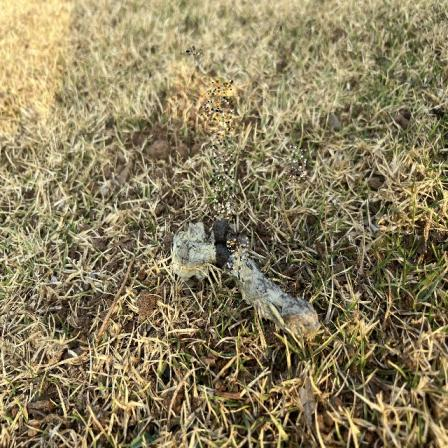dog-poop: (176, 220, 320, 340)
